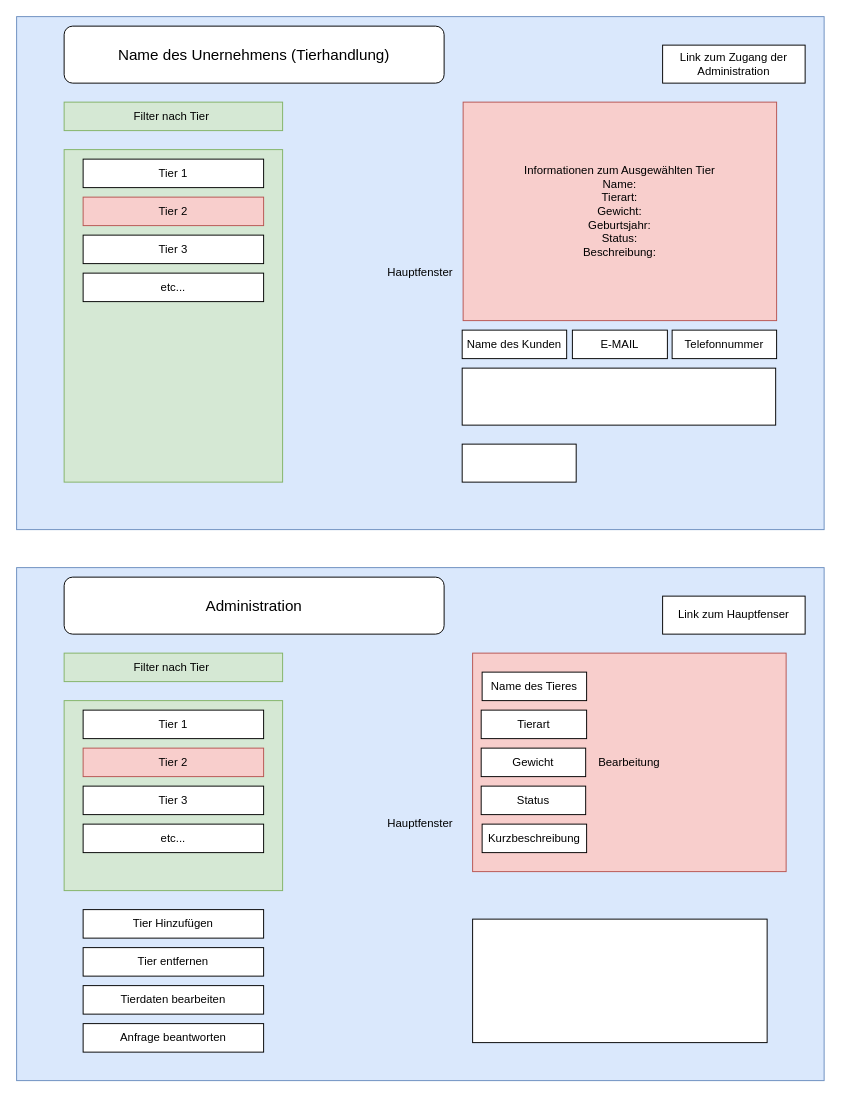
Some shapes in this 841 by 1097 pixel diagram are drawn without their labels. Each missing label, with the centre of its shape:
"Anfrage Stellen" belongs at point (518, 462).
"Antwortnachricht auf Anfrage" belongs at point (619, 980).
"interaktives Textfeld/input für die Adoptionsanfrage" belongs at point (618, 396).
